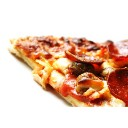pepperonipizza: (10, 37, 128, 106)
